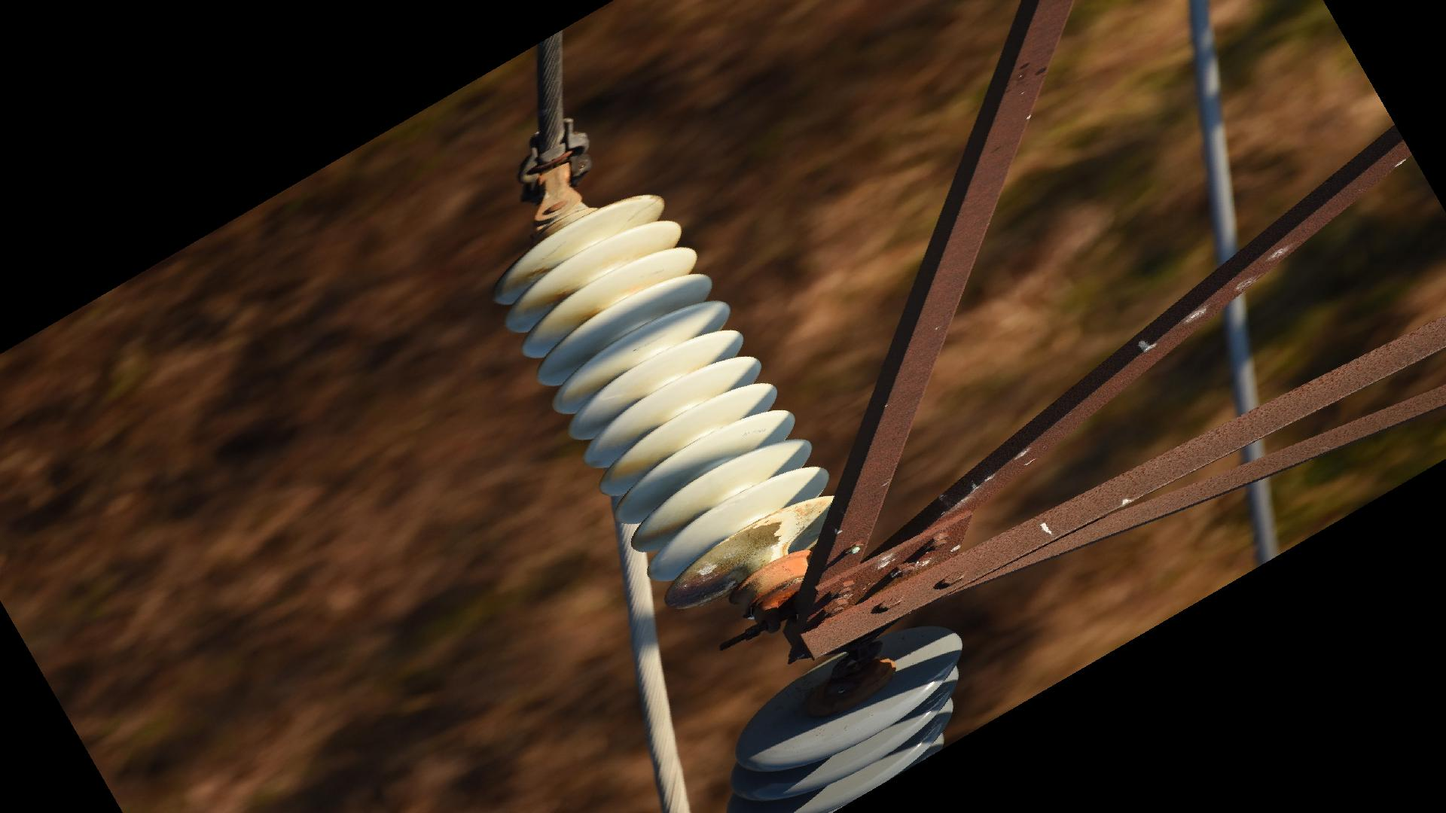insulator: (482, 184, 850, 620), (718, 617, 969, 813)
insulator_flashover: (662, 517, 783, 615)
